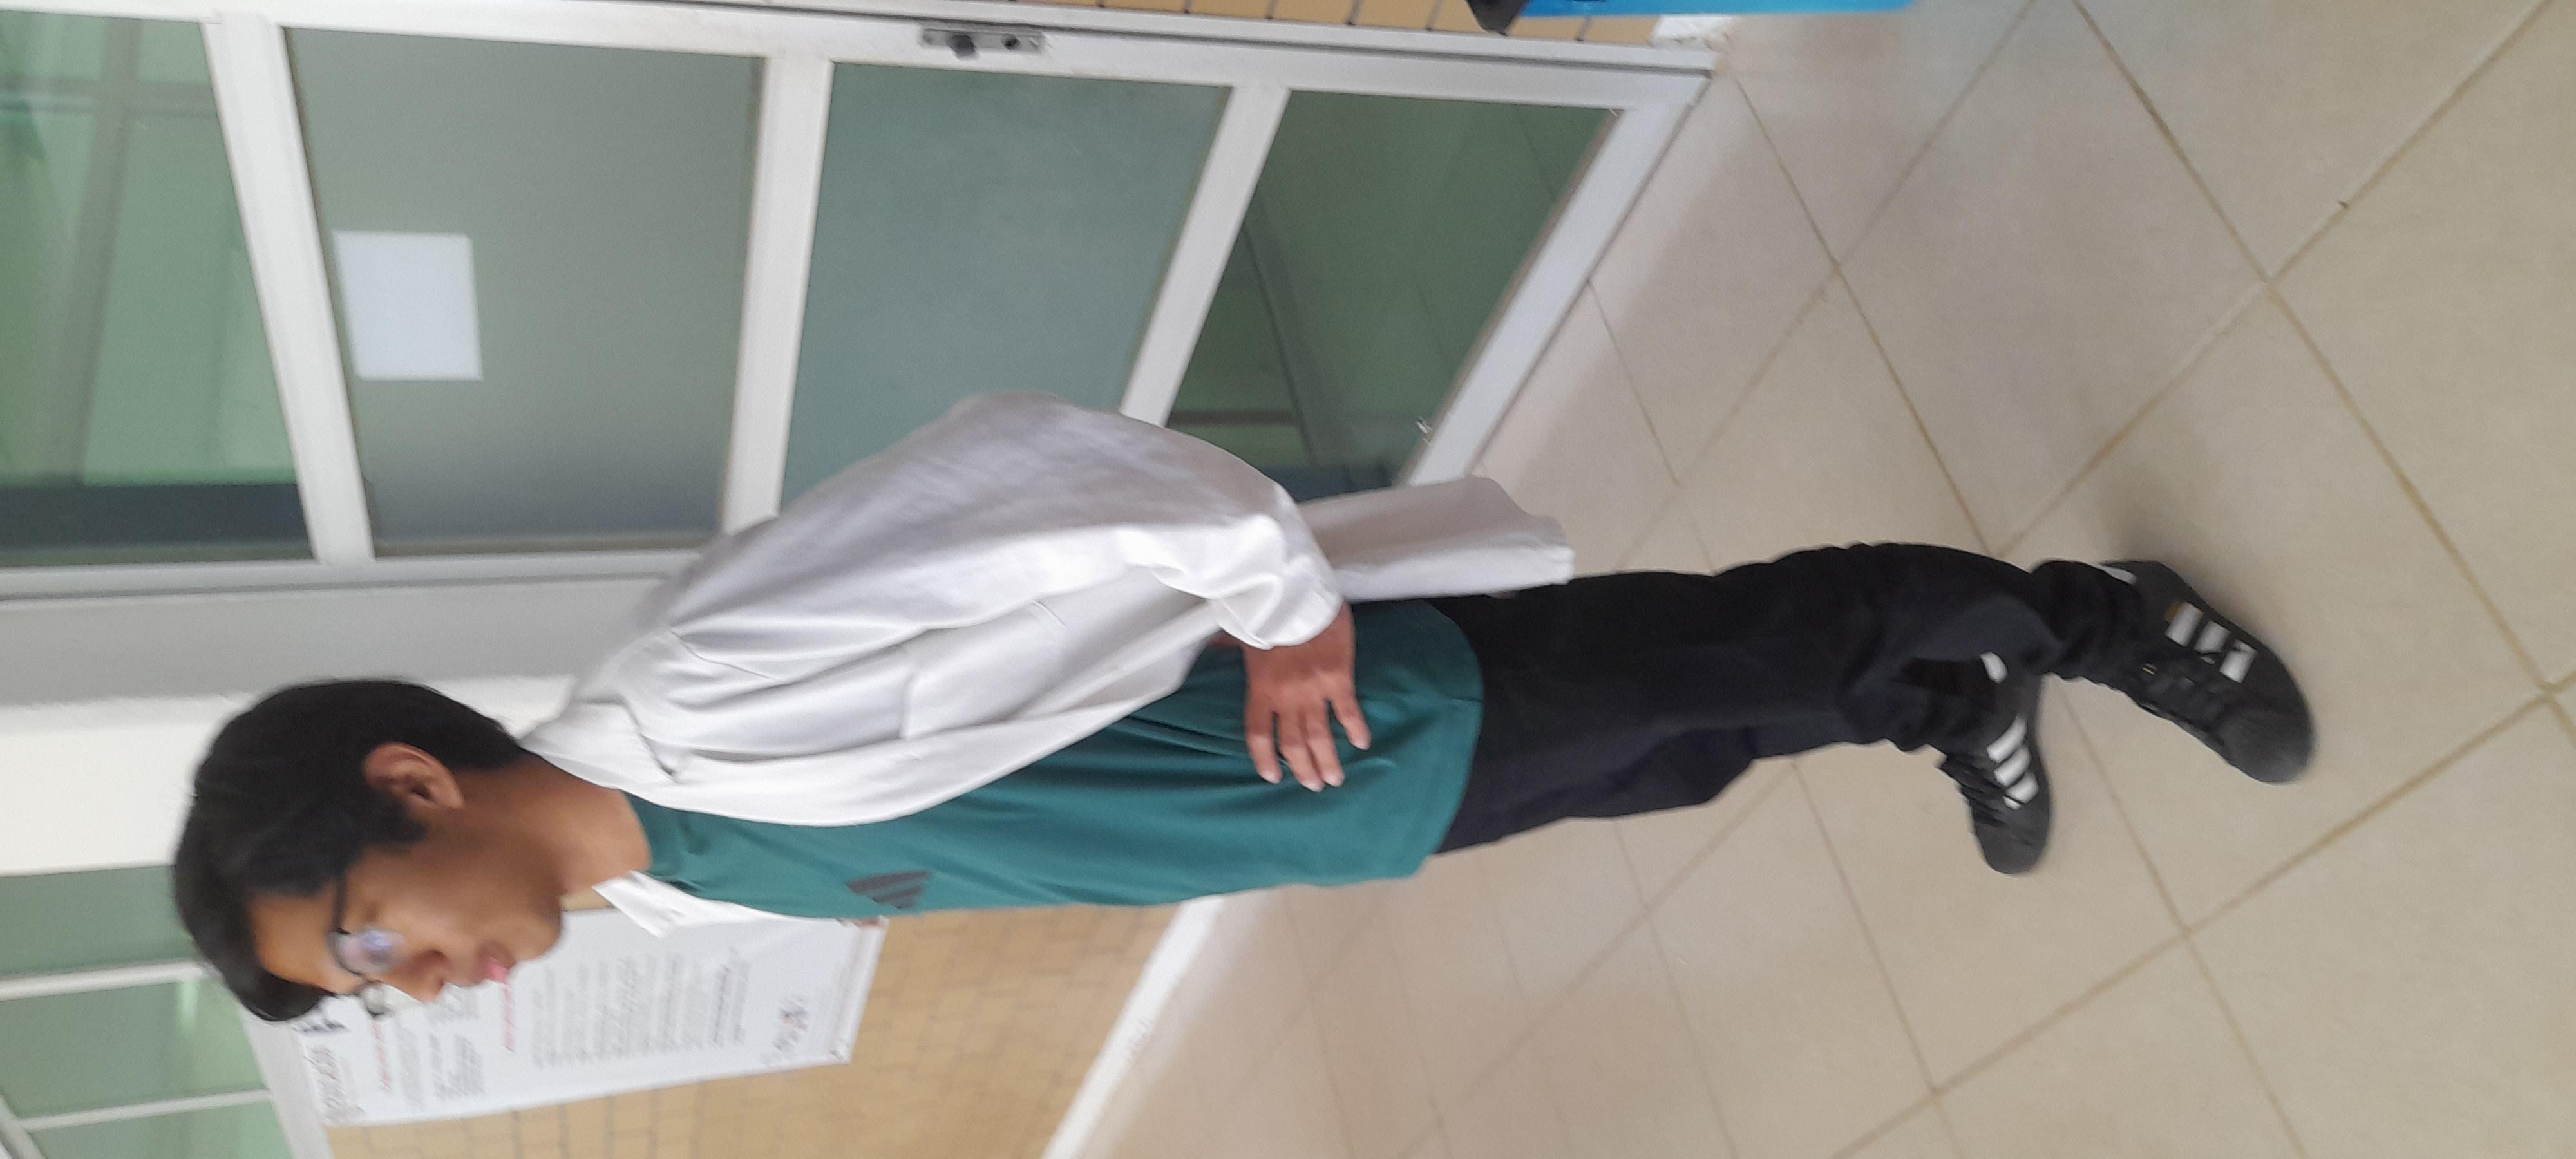Bata-Incorrecta: (228, 67, 1746, 1057)
